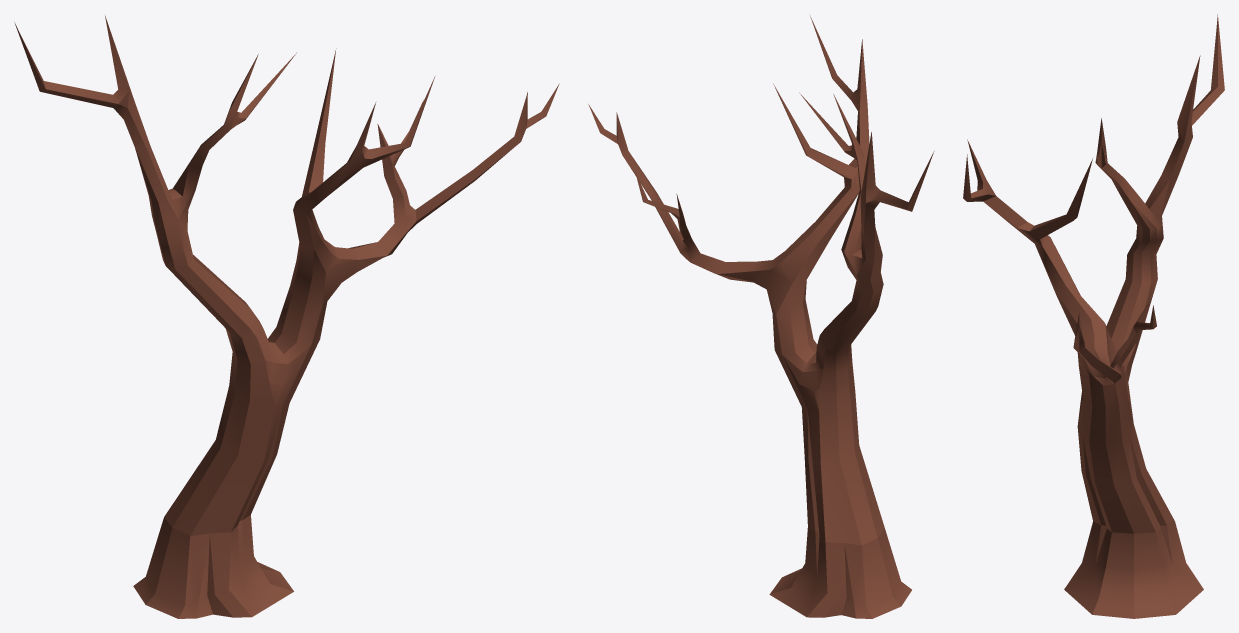
The model's file is FINAL_Tree_Cut_2.fbx.
3 renders of one model, left to right at view 1: azimuth 30°, elevation 25°; view 2: azimuth 150°, elevation 25°; view 3: azimuth 270°, elevation 25°, orthographic. The views are drawn at different scales.
Visible parts, largest first — view 1: Tree_Stump_1.001, Tree_Stump_1.002; view 2: Tree_Stump_1.001, Tree_Stump_1.002; view 3: Tree_Stump_1.001, Tree_Stump_1.002.
Part boxes in pixels (x1,y1,x2,y2): Tree_Stump_1.001: [14, 15, 559, 536]; Tree_Stump_1.002: [133, 515, 293, 618]; Tree_Stump_1.001: [588, 15, 934, 545]; Tree_Stump_1.002: [769, 526, 911, 618]; Tree_Stump_1.001: [963, 14, 1224, 533]; Tree_Stump_1.002: [1064, 521, 1203, 618].
Size of the model in its own units: 346 by 403 by 188.
